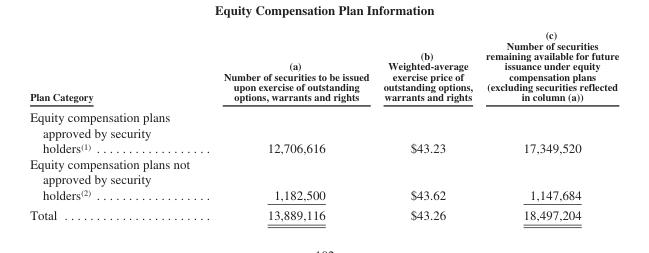table: (29, 28, 618, 222)
table column: (29, 28, 206, 222), (206, 28, 375, 222), (478, 28, 618, 222), (375, 28, 478, 222)
table column header: (29, 28, 618, 106)
table row: (29, 28, 618, 106), (29, 106, 618, 155), (29, 155, 618, 204), (29, 204, 618, 222)
